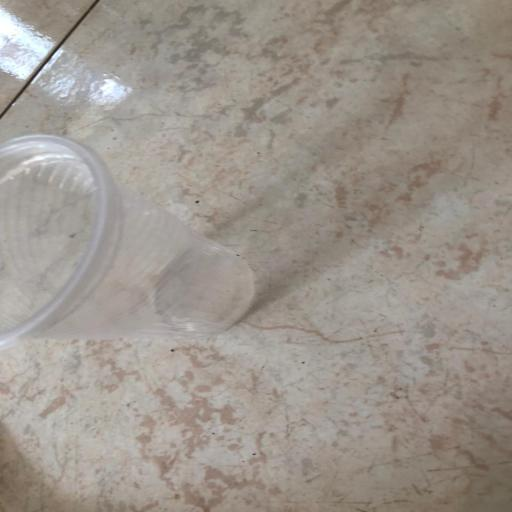waste: (0, 134, 273, 370)
